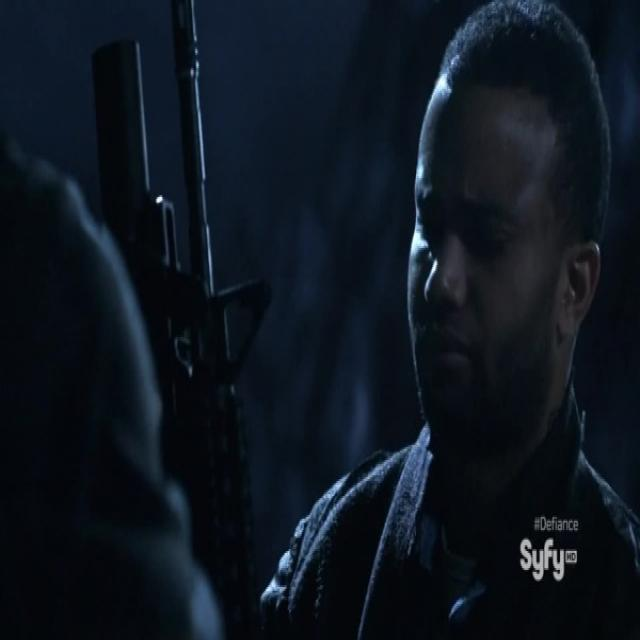rifle: (94, 1, 261, 623)
